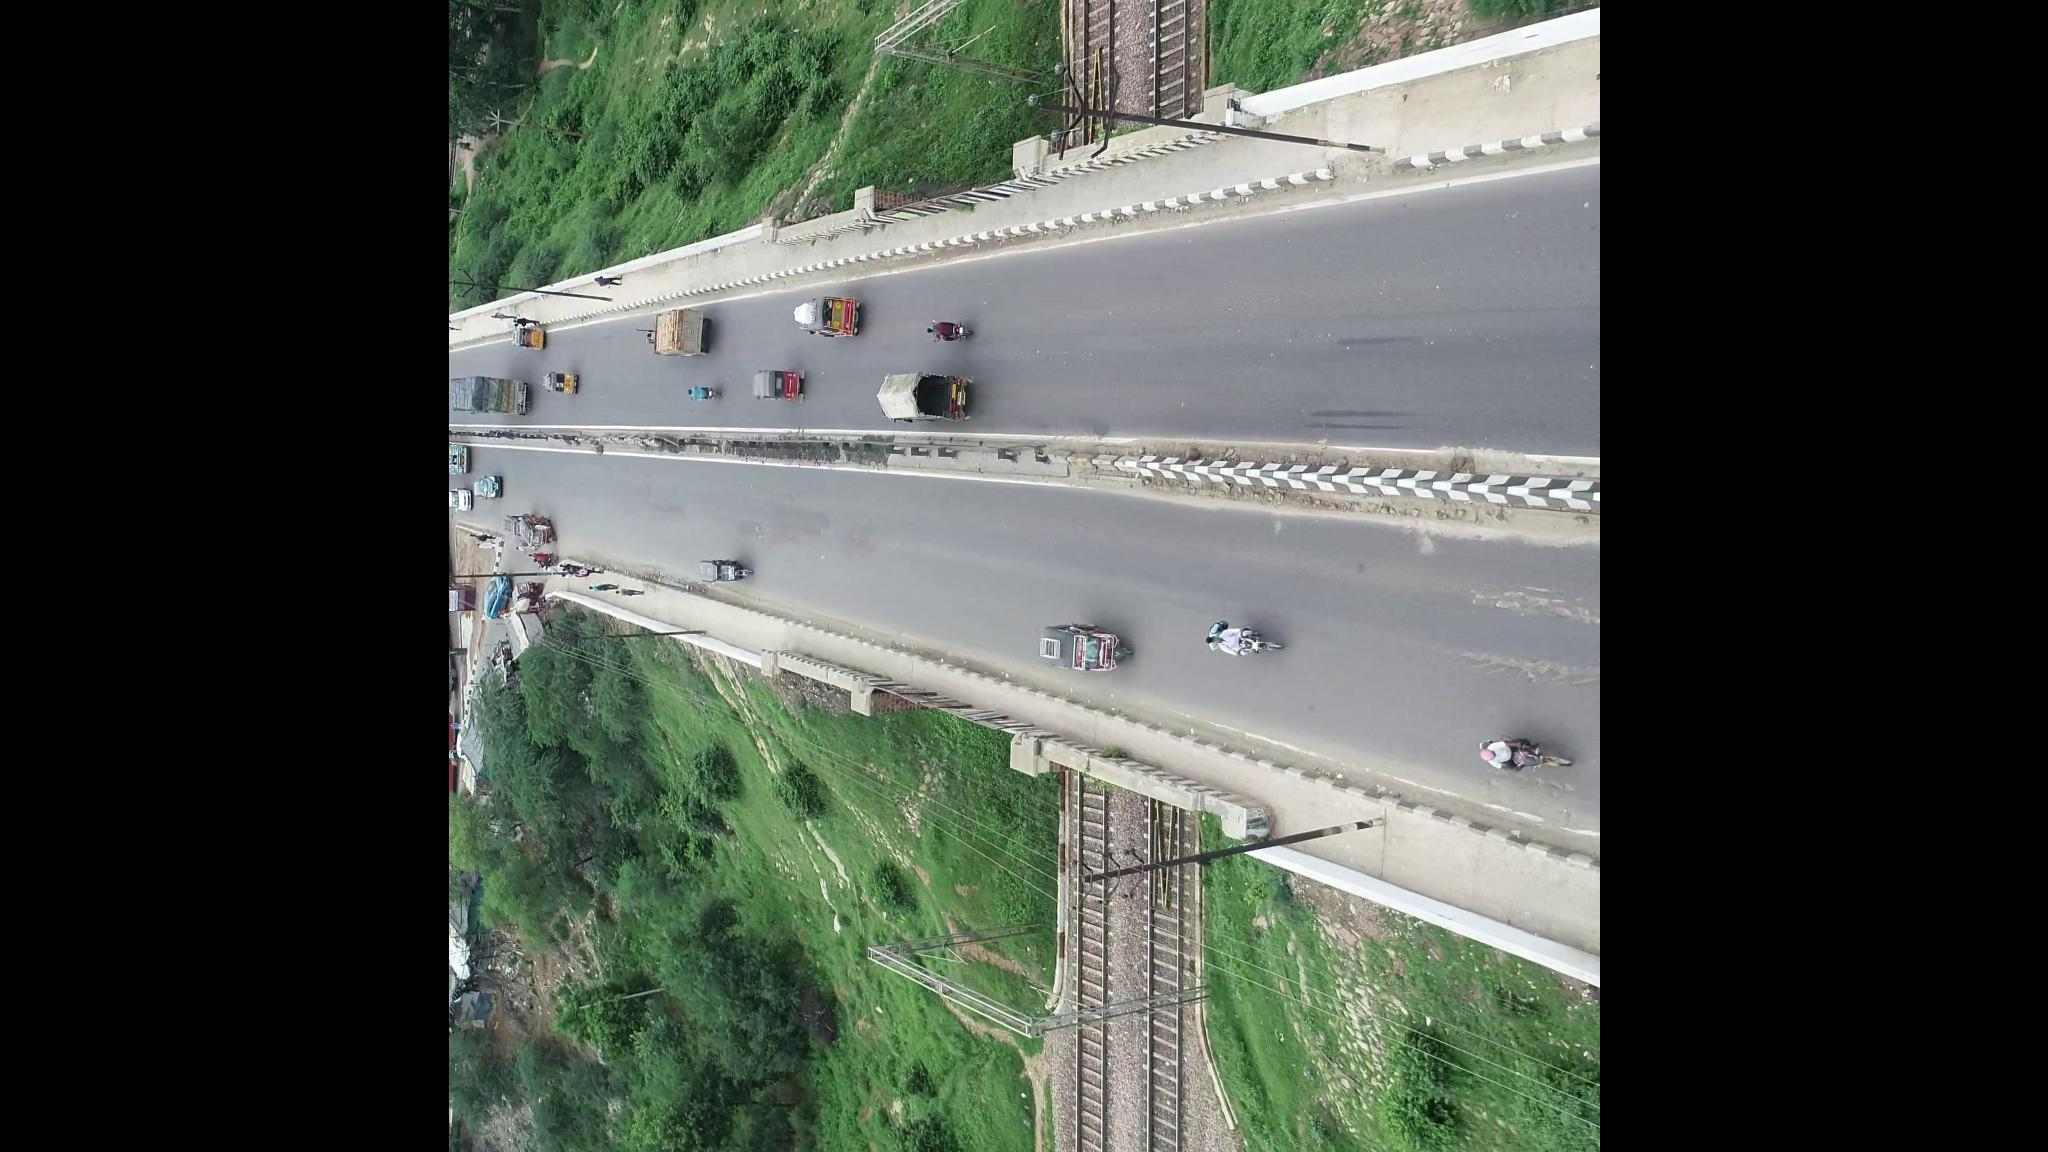Ravelling: (1467, 577, 1599, 632), (1463, 644, 1598, 693)
